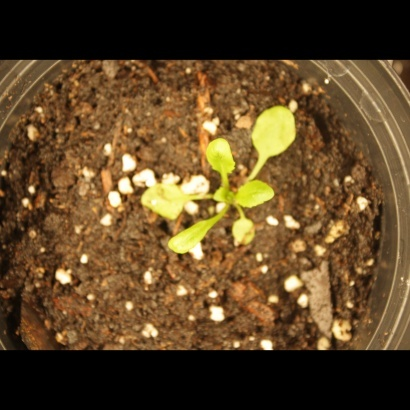leaf: (246, 93, 302, 164), (156, 218, 225, 267), (134, 174, 198, 223), (231, 178, 285, 214), (199, 135, 241, 176), (229, 212, 267, 253), (207, 183, 240, 209)
